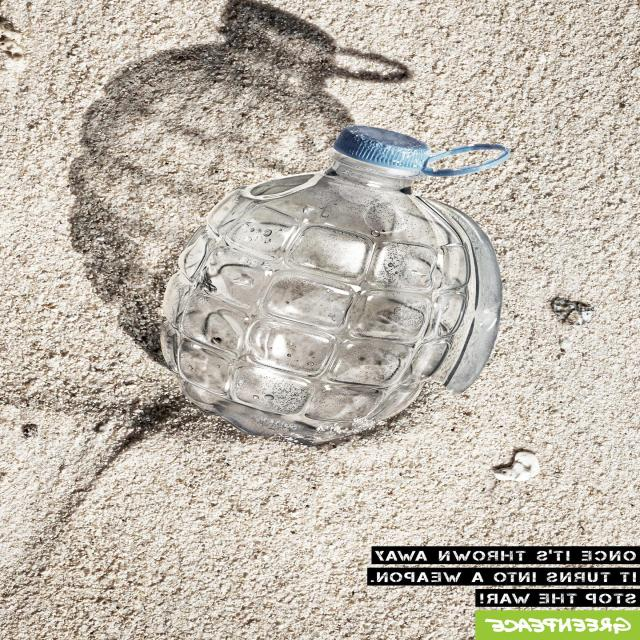grenade: (163, 127, 509, 440)
